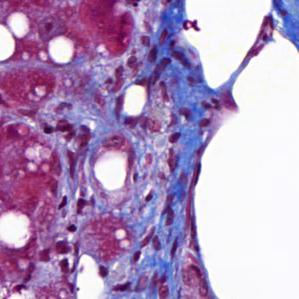inflammation: (48, 233, 80, 264), (42, 115, 78, 140), (70, 193, 100, 219)
